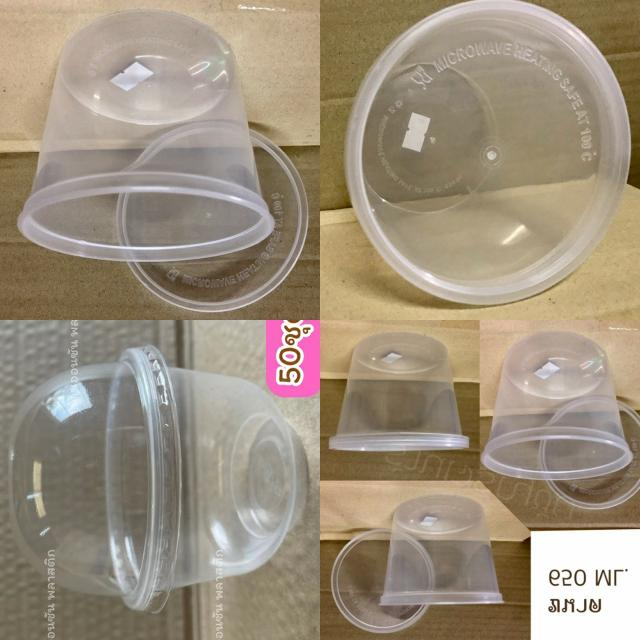Single-Use-Plastic: (346, 0, 630, 304), (10, 345, 308, 611), (19, 11, 274, 261), (129, 131, 308, 312), (481, 331, 632, 480), (329, 332, 469, 451), (380, 495, 502, 604), (540, 398, 640, 509), (331, 529, 436, 634)
